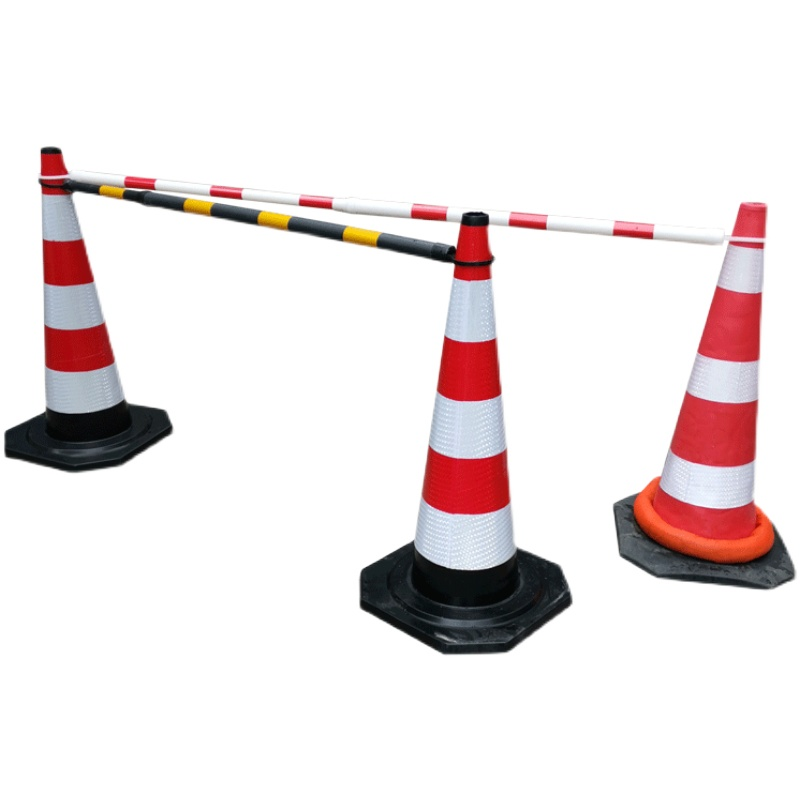traffic_cone: (342, 196, 576, 678), (612, 178, 800, 598), (4, 120, 181, 482)
